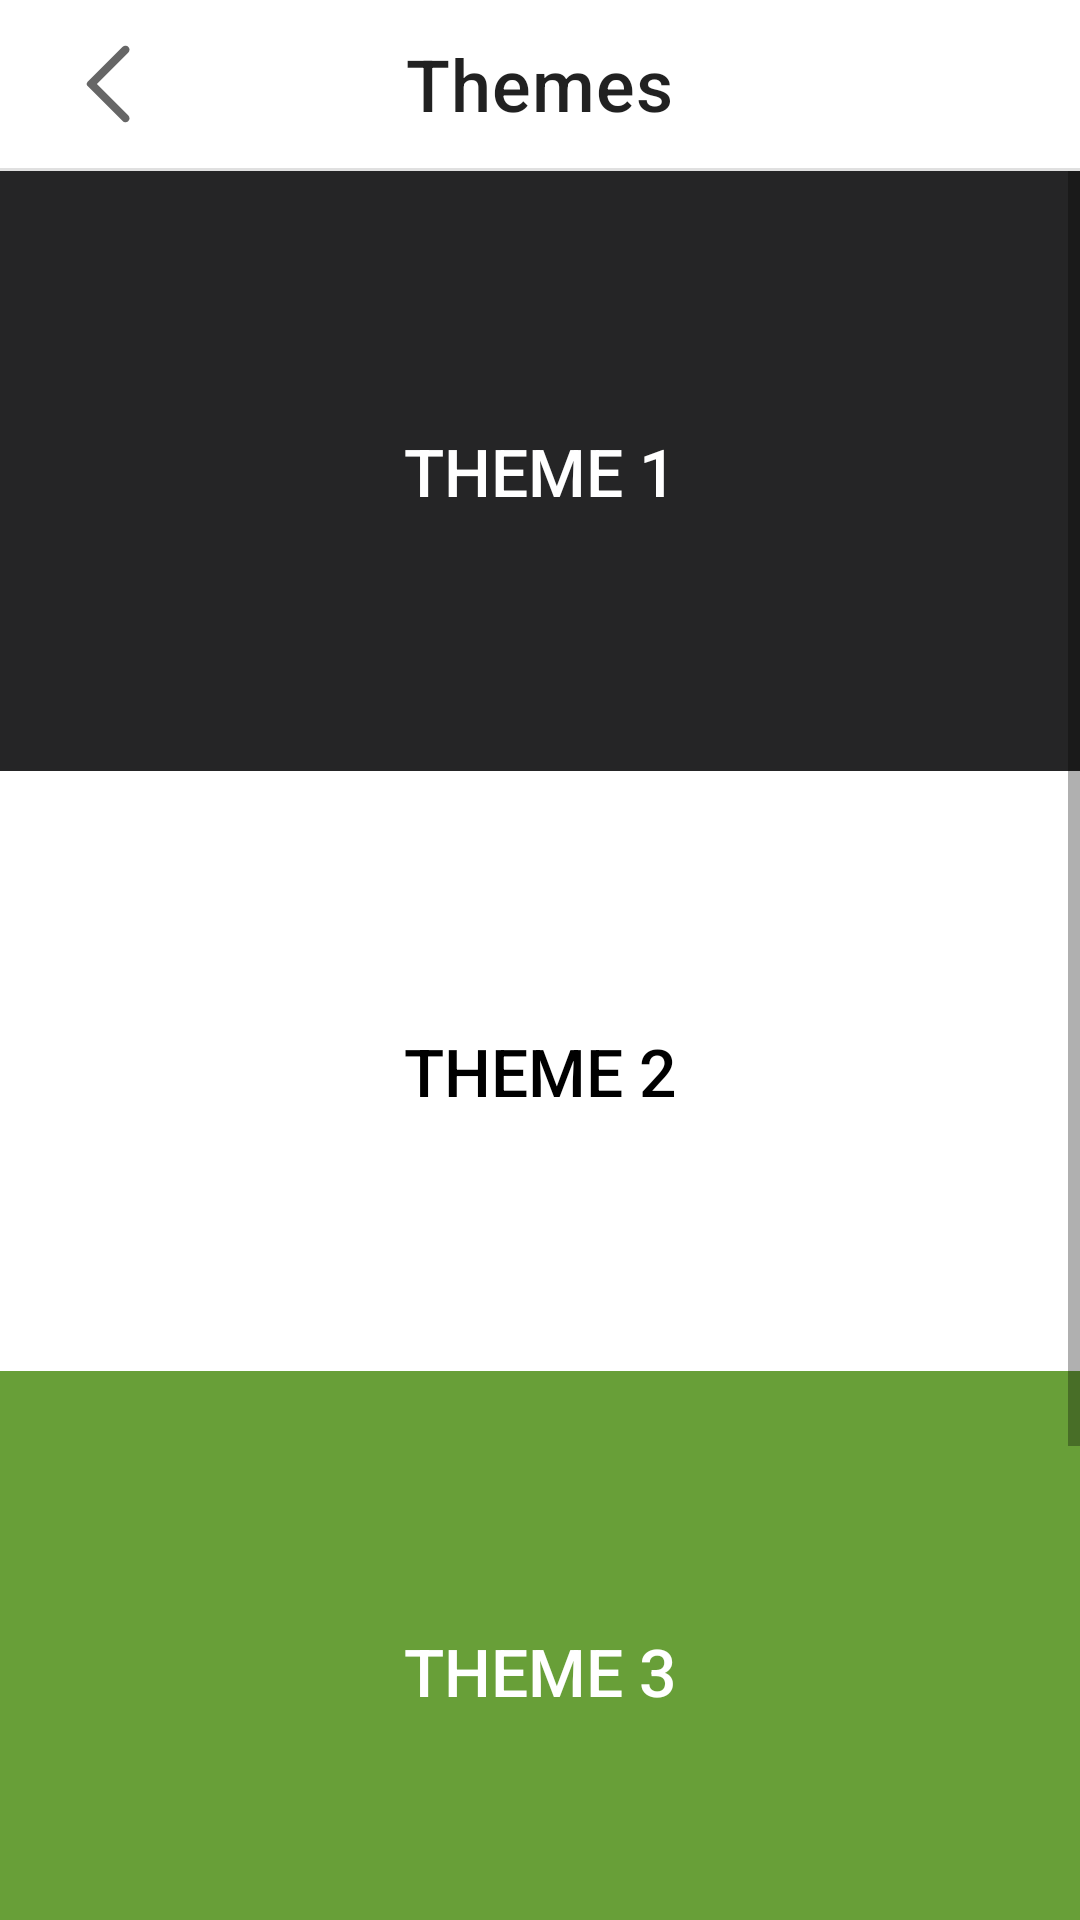

Screen size 1080px x 1920px. Icon name, then its box in pixels as (x1, y1, x2, y2):
back: (86, 45, 130, 123)
